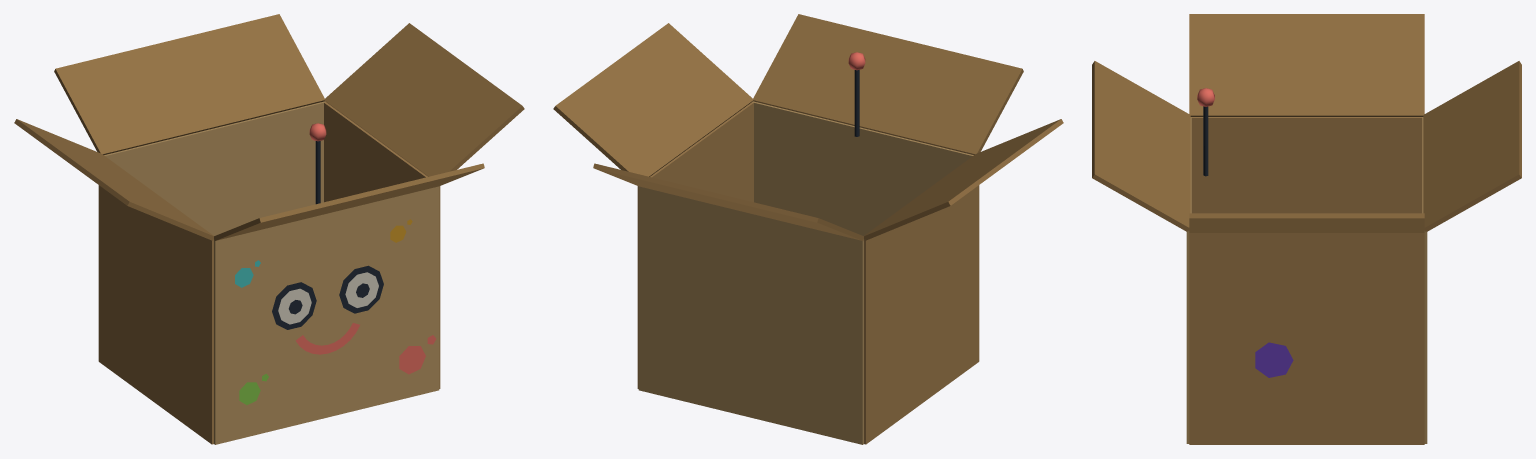
The model's file is caixa_robo_2.glb.
3 views of the same model, side by side, from view 1: azimuth 30°, elevation 25°; view 2: azimuth 150°, elevation 25°; view 3: azimuth 270°, elevation 25° (orthographic). The views are drawn at different scales.
Parts seen in each view (by area): view 1: caixa_robo_2_malha; view 2: caixa_robo_2_malha; view 3: caixa_robo_2_malha.
Boxes of the visible parts, box(x1,y1,x2,y2) form: caixa_robo_2_malha: box(14, 14, 524, 444); caixa_robo_2_malha: box(553, 14, 1063, 444); caixa_robo_2_malha: box(1092, 14, 1521, 444).
Bounding box in the file's own units: 1.42 × 0.98 × 1.28.
